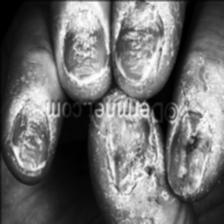Toxin: (62, 0, 167, 85), (98, 117, 160, 188), (173, 117, 214, 192), (9, 101, 48, 170)
